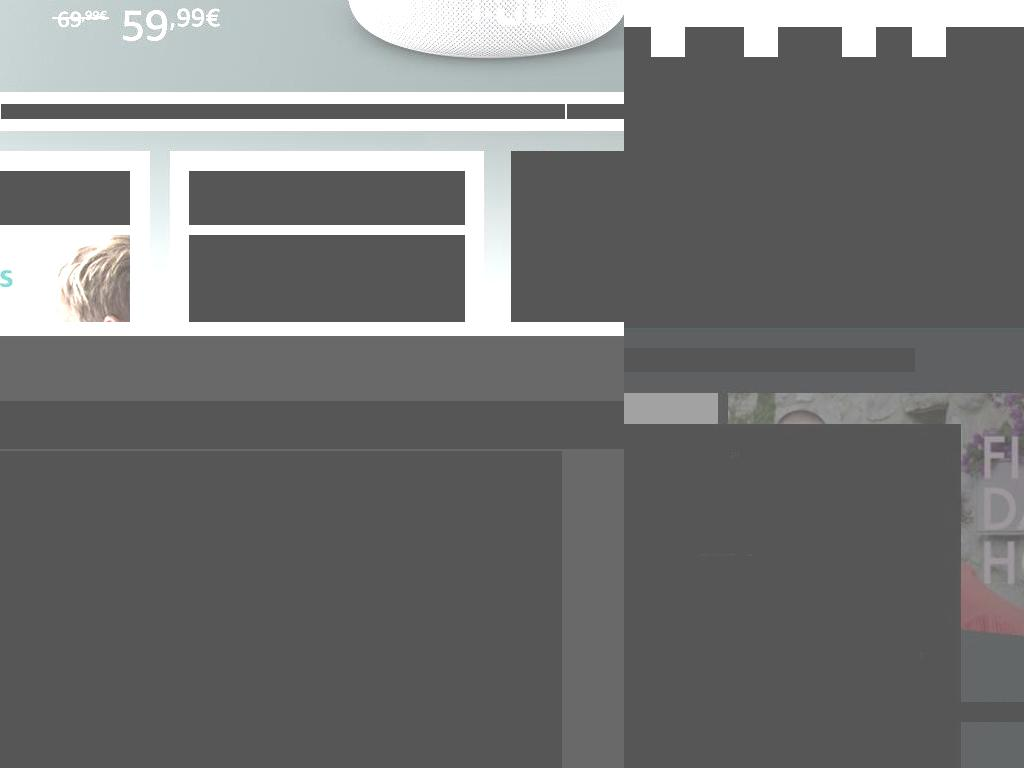button: (189, 235, 465, 322), (730, 724, 930, 768), (624, 724, 715, 768), (742, 665, 847, 689), (946, 27, 1024, 57), (778, 27, 842, 57), (685, 27, 744, 57), (876, 27, 912, 57), (624, 27, 651, 57)
heading: (0, 401, 624, 449), (0, 454, 339, 510), (189, 171, 465, 225), (624, 237, 719, 316), (0, 171, 130, 225), (624, 348, 915, 372), (748, 672, 947, 697)
iframe: (511, 151, 624, 322)
image: (624, 57, 1024, 322), (189, 235, 465, 322), (674, 458, 771, 554), (748, 620, 774, 657)
link: (68, 553, 186, 579), (209, 553, 259, 579), (567, 104, 624, 119), (308, 519, 314, 532)
text: (0, 451, 562, 768), (624, 628, 920, 684), (624, 572, 930, 600), (1, 104, 565, 119), (748, 702, 1024, 722), (746, 734, 914, 758), (202, 518, 308, 539), (59, 516, 136, 542), (624, 734, 699, 758), (161, 516, 203, 542), (15, 518, 60, 539), (135, 518, 161, 539)
